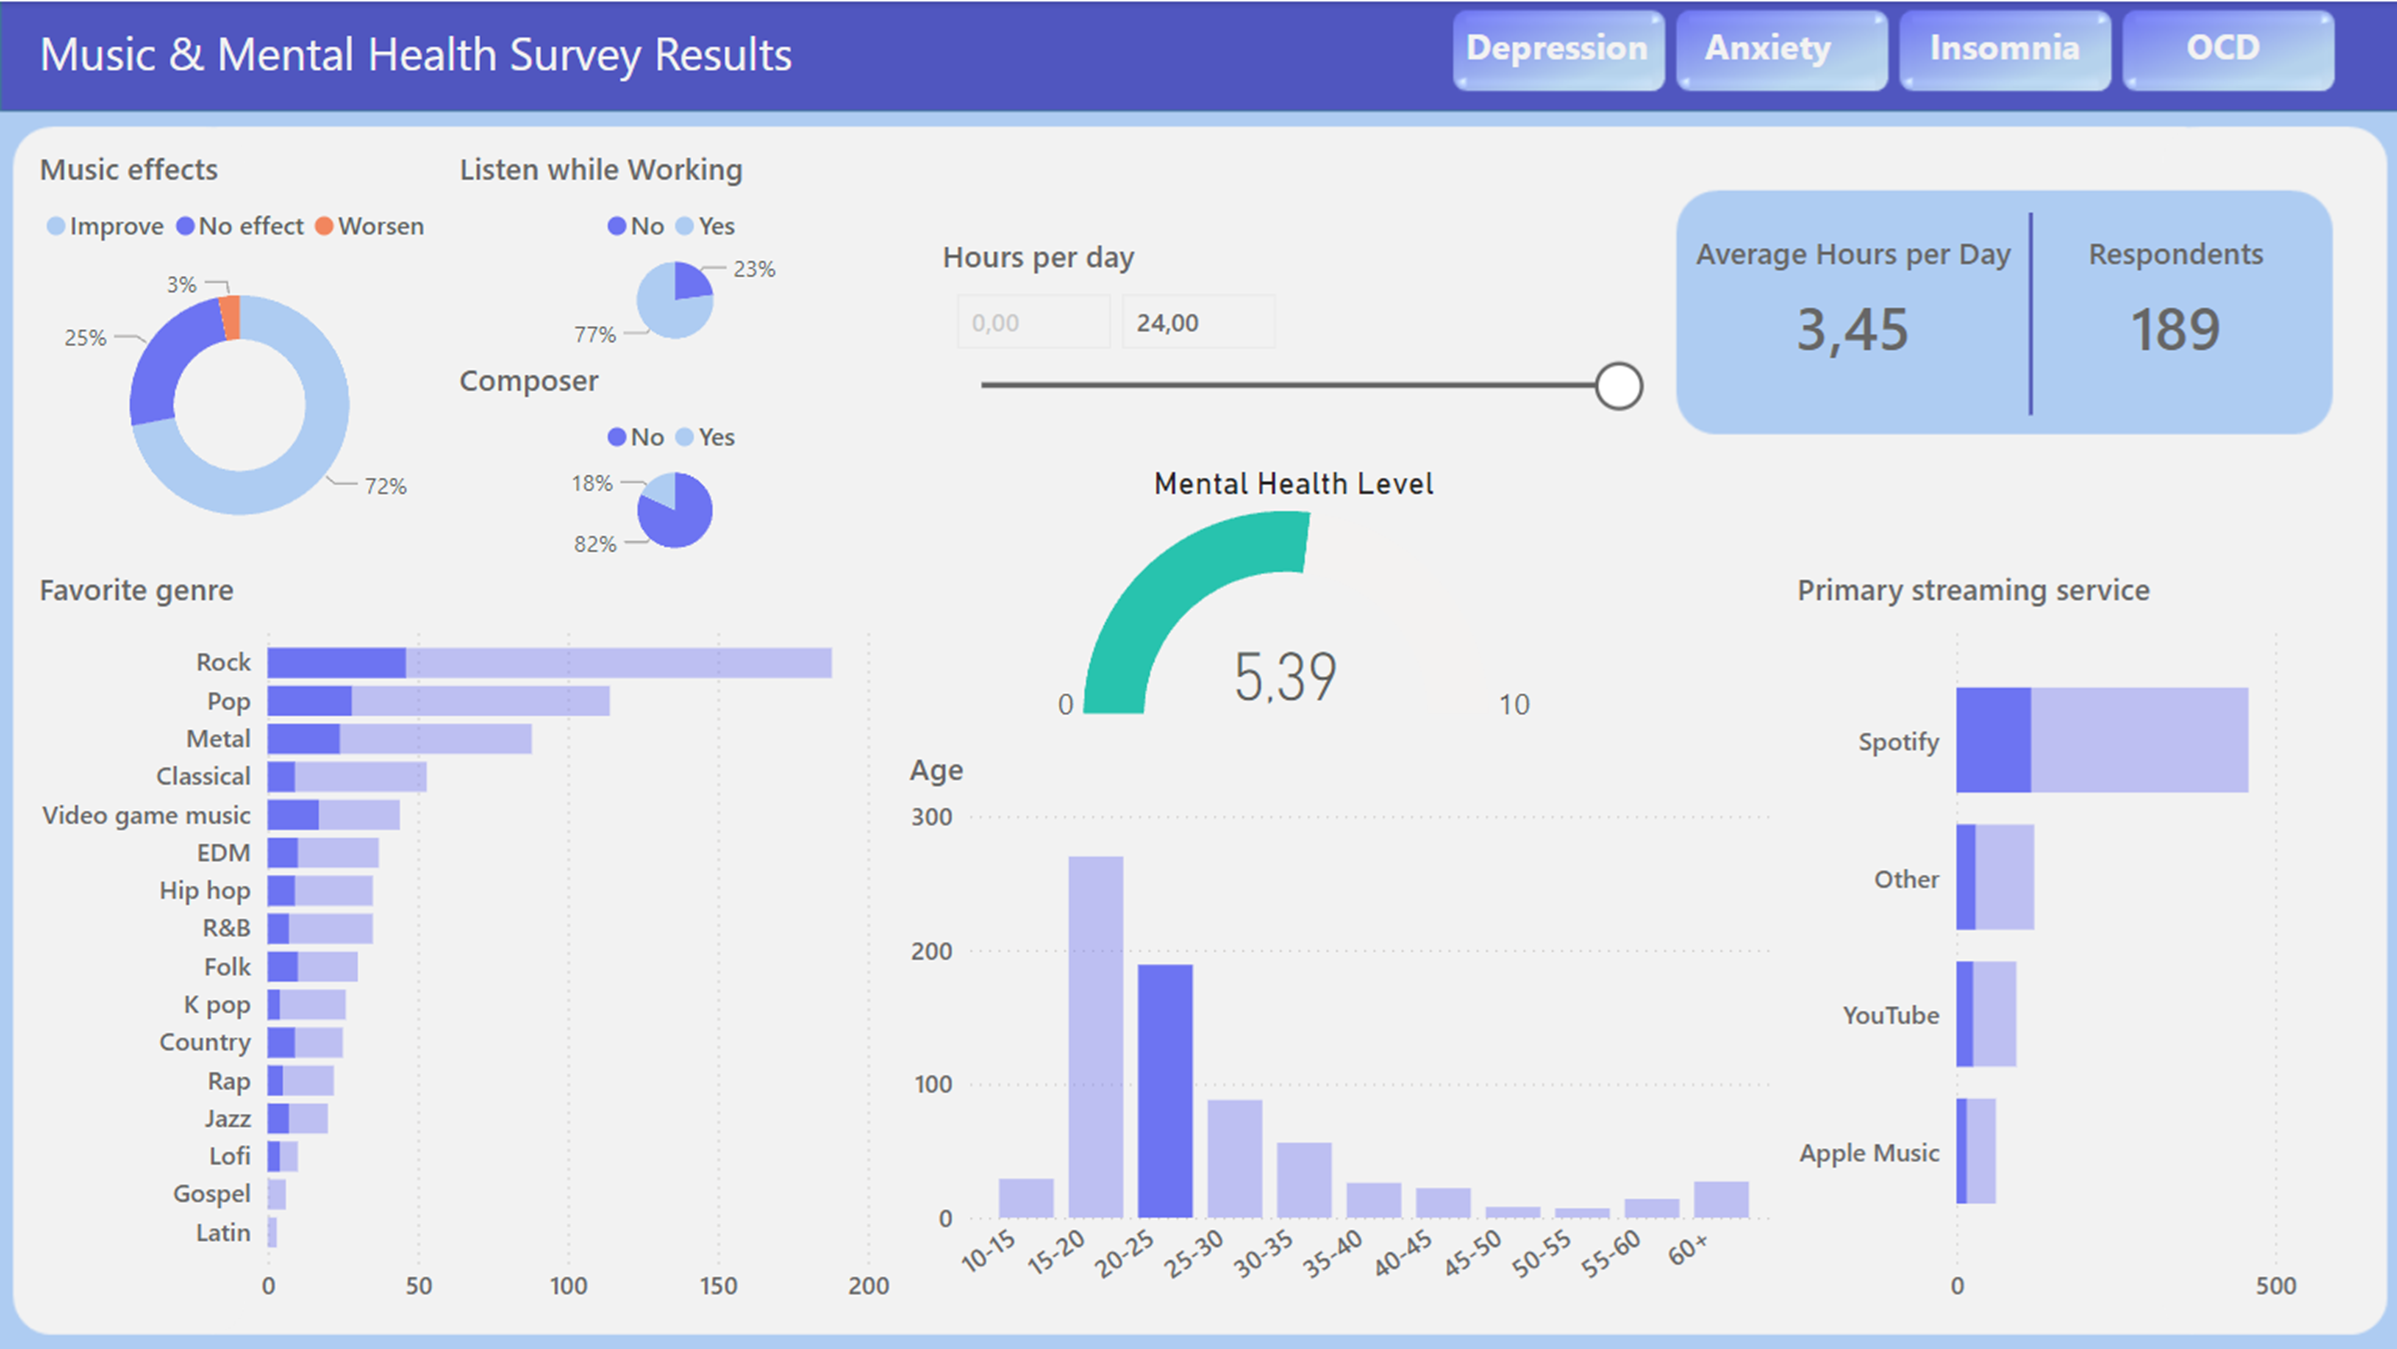

What the dashboard file says about the page in this screenshot:
{"tool":"powerbi","page":{"name":"Depression","canvas":[1280,720],"ordinal":1},"visuals":[{"type":"card","title":"Respondents","fields":{"Values":["Count(mxmh_survey_results.id)"]},"box":[1104,0,160,64],"z":0},{"type":"textbox","box":[31.7,7.4,159.7,47.6],"z":1000},{"type":"donutChart","title":"Music effects","fields":{"Category":["mxmh_survey_results.Music effects"],"Y":["Count(mxmh_survey_results.id)"]},"box":[16,74.2,240,224],"z":2000},{"type":"clusteredBarChart","title":"Favorite genre","fields":{"Category":["mxmh_survey_results.Fav genre"],"Y":["Count(mxmh_survey_results.id)"]},"box":[16,304,464,400],"z":3000},{"type":"card","title":"Average Hours per Day","fields":{"Values":["Avg(mxmh_survey_results.Hours per day)"]},"box":[944,0,160,64],"z":4000},{"type":"slicer","title":"Hours per day","fields":{"Values":["mxmh_survey_results.Hours per day"]},"box":[458.4,74.5,444.2,101.1],"z":5000},{"type":"clusteredBarChart","title":"Age","fields":{"Category":["mxmh_survey_results.Age (groups)"],"Y":["Count(mxmh_survey_results.id)"]},"box":[915,399.9,352.3,303.6],"z":6000},{"type":"pieChart","title":"Listen while Working","fields":{"Category":["mxmh_survey_results.While working"],"Y":["Count(mxmh_survey_results.id)"]},"box":[256,74.1,202,112.1],"z":7000},{"type":"pieChart","title":"Composer","fields":{"Category":["mxmh_survey_results.Composer"],"Y":["Count(mxmh_survey_results.id)"]},"box":[256,186.2,202,112.1],"z":8000},{"type":"columnChart","title":"Respondents by Level","fields":{"Category":["mxmh_survey_results.Depression"],"Y":["Count(mxmh_survey_results.id)"]},"box":[915.1,176,352,224],"z":9000},{"type":"gauge","title":"Average Level","fields":{"Y":["Avg(mxmh_survey_results.Depression)"],"MinValue":["Min(mxmh_survey_results.Depression)"],"MaxValue":["Max(mxmh_survey_results.Depression)"]},"box":[458.4,175.6,444.2,125],"z":10000},{"type":"textbox","box":[947.8,118.5,128,36],"z":11000},{"type":"textbox","box":[1111.8,77.2,143.9,39.1],"z":12000},{"type":"textbox","box":[1111.8,118.5,143.9,47.6],"z":13000},{"type":"textbox","box":[943.6,77.2,128,39.1],"z":14000},{"type":"lineChart","title":"Correlation","fields":{"Y":["Avg(mxmh_survey_results.Insomnia)","Avg(mxmh_survey_results.Anxiety)","Avg(mxmh_survey_results.OCD)"],"Category":["mxmh_survey_results.Depression"]},"box":[480.3,303.6,422.1,400.9],"z":15000},{"type":"actionButton","box":[915.5,74.7,175.8,42.2],"z":16000},{"type":"actionButton","box":[1104.2,75.6,163.1,40.3],"z":17000},{"type":"actionButton","box":[915.5,118.9,175.8,40.3],"z":18000},{"type":"actionButton","box":[1104.2,121.8,163.1,40.3],"z":19000}]}

Visuals, with their boxes in screenshot pixels (x1, y1, x2, y2), scaled from the page's 1280x720 canvas onto the 2397x1349 screenshot:
"Respondents" card: box(2067, 0, 2367, 120)
textbox: box(59, 14, 358, 103)
"Music effects" donutChart: box(30, 139, 479, 559)
"Favorite genre" clusteredBarChart: box(30, 570, 899, 1319)
"Average Hours per Day" card: box(1768, 0, 2067, 120)
"Hours per day" slicer: box(858, 140, 1690, 329)
"Age" clusteredBarChart: box(1713, 749, 2373, 1318)
"Listen while Working" pieChart: box(479, 139, 858, 349)
"Composer" pieChart: box(479, 349, 858, 559)
"Respondents by Level" columnChart: box(1714, 330, 2373, 749)
"Average Level" gauge: box(858, 329, 1690, 563)
textbox: box(1775, 222, 2015, 289)
textbox: box(2082, 145, 2351, 218)
textbox: box(2082, 222, 2351, 311)
textbox: box(1767, 145, 2007, 218)
"Correlation" lineChart: box(899, 569, 1690, 1320)
actionButton: box(1714, 140, 2044, 219)
actionButton: box(2068, 142, 2373, 217)
actionButton: box(1714, 223, 2044, 298)
actionButton: box(2068, 228, 2373, 304)
